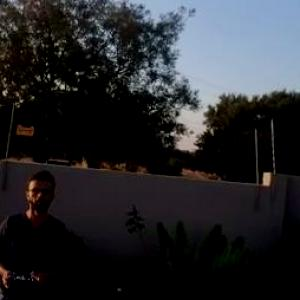follow: (0, 165, 72, 299)
